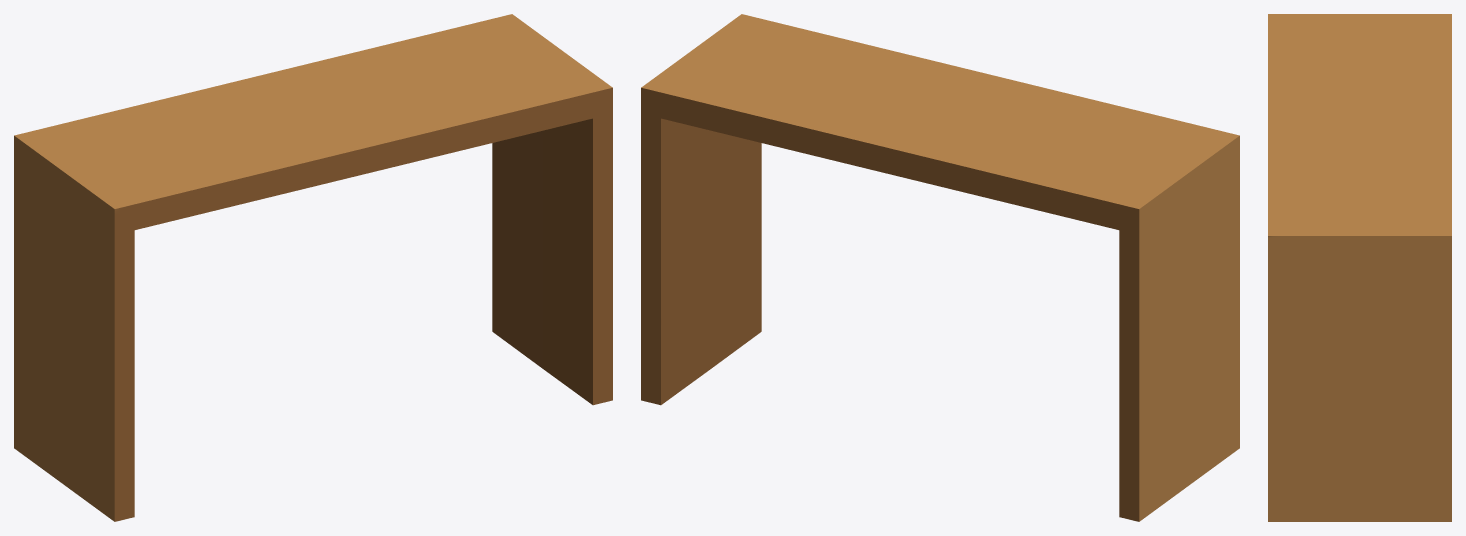
Rendered from table_high.fbx.
3 views of the same model, side by side, from view 1: azimuth 30°, elevation 25°; view 2: azimuth 150°, elevation 25°; view 3: azimuth 270°, elevation 25° (orthographic). The views are drawn at different scales.
Visible parts, largest first — view 1: mesh_TableHigh; view 2: mesh_TableHigh; view 3: mesh_TableHigh.
Boxes of the visible parts, <box> form: mesh_TableHigh: <box>14,14,612,521</box>; mesh_TableHigh: <box>641,14,1239,521</box>; mesh_TableHigh: <box>1268,14,1451,521</box>.
Size of the model in its own units: 2 by 1.2 by 0.7.
1 material, 1 textured.
